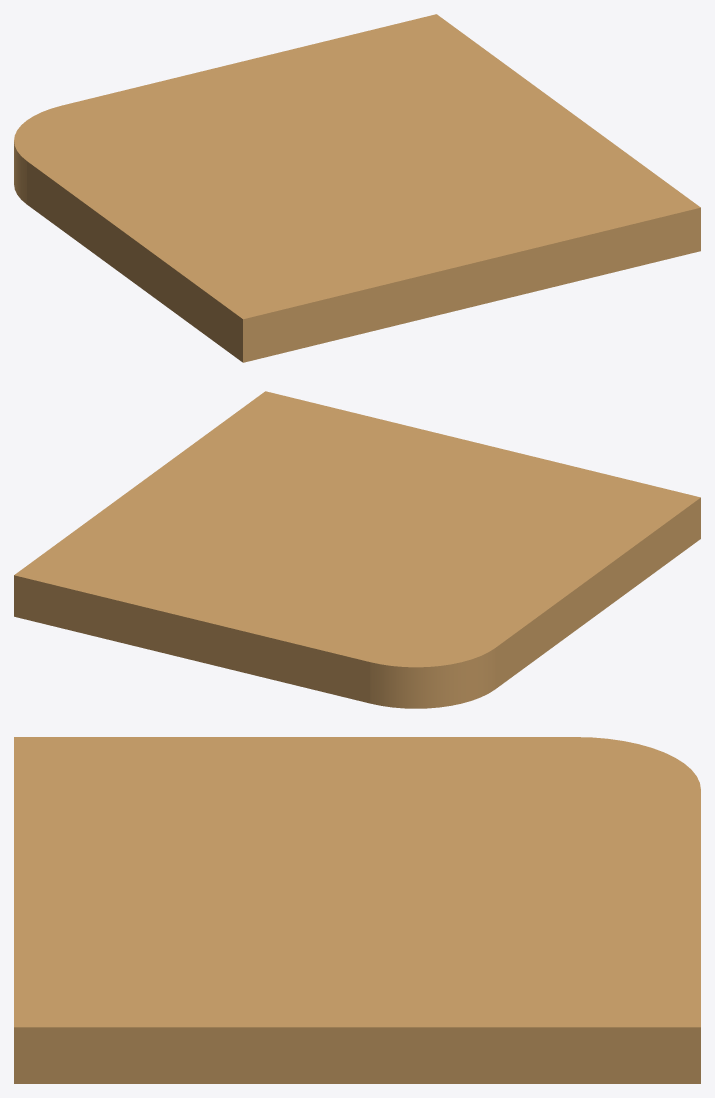
The model's file is floorCornerRound.glb.
3 renders of one model, top to bottom at view 1: azimuth 30°, elevation 25°; view 2: azimuth 150°, elevation 25°; view 3: azimuth 270°, elevation 25°, orthographic. The views are drawn at different scales.
Size of the model in its own units: 5.5 by 0.5 by 5.5.
